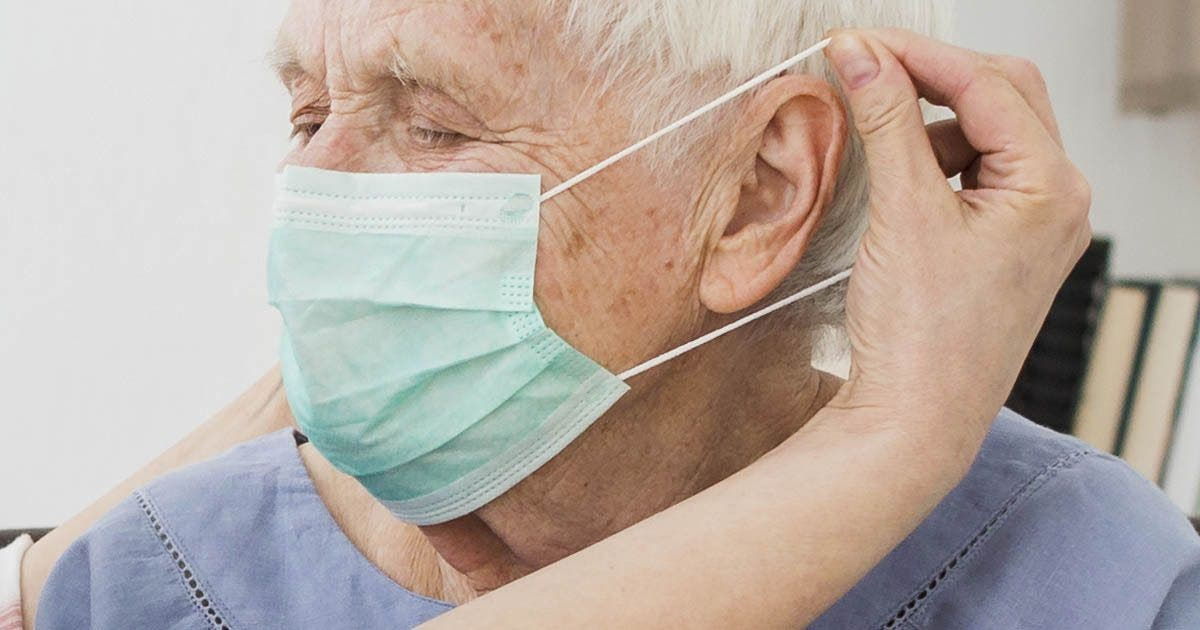with_mask: (212, 1, 937, 551)
